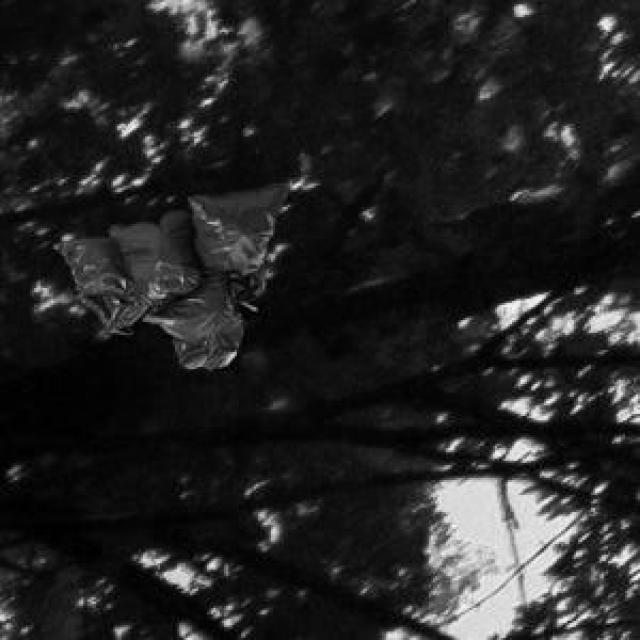miscellaneous trash: (49, 177, 285, 365)
